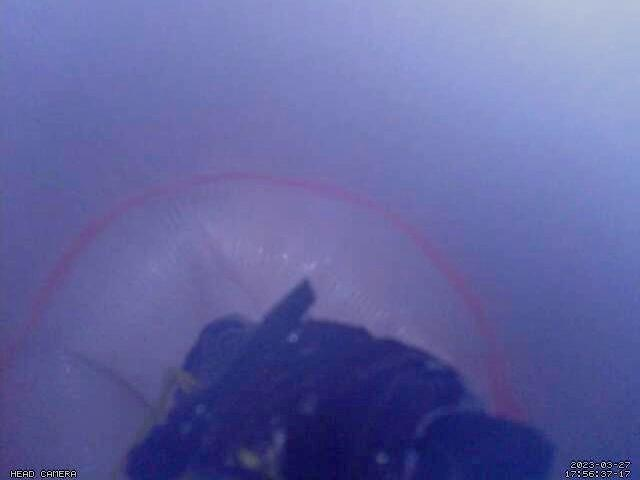head: (1, 171, 530, 480)
